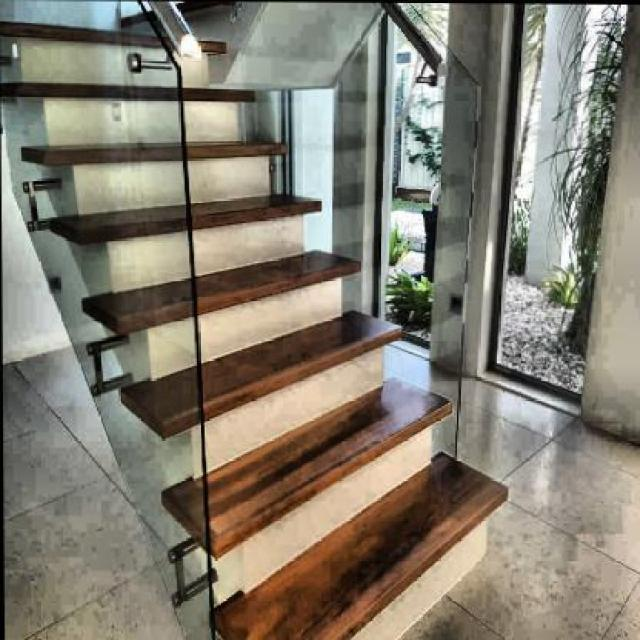stair: (10, 1, 508, 638)
